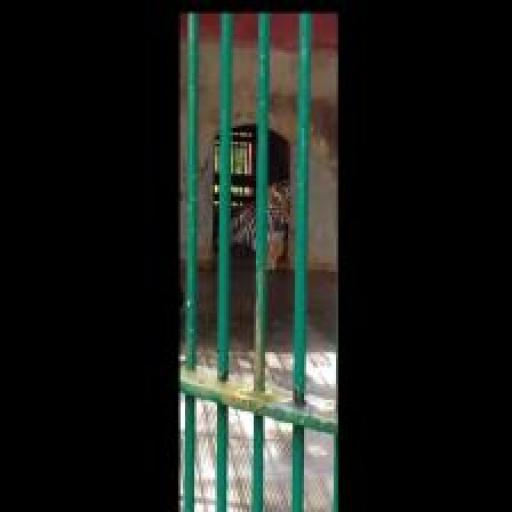Tiger: (215, 167, 294, 276)
